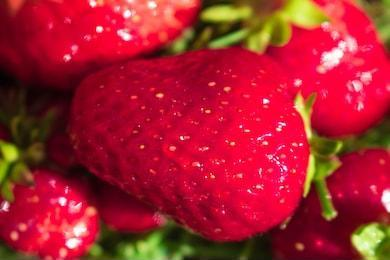Fresa: (62, 41, 318, 249)
